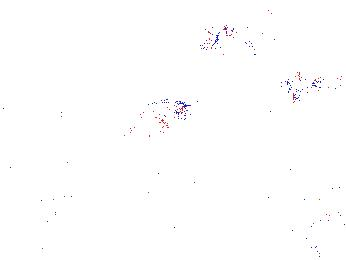X-ray fish: (119, 97, 195, 141)
glassfish: (117, 138, 227, 205)
redtail glassfish: (226, 23, 291, 52), (261, 3, 314, 30), (288, 64, 336, 93), (198, 22, 228, 56)
